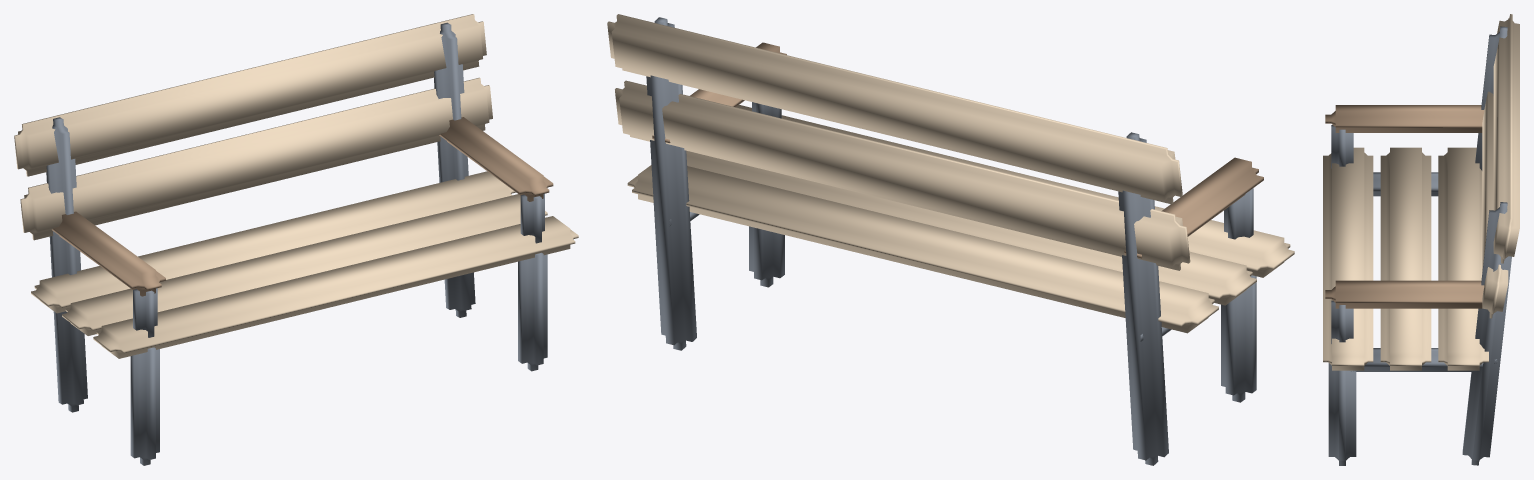
Rendered from CoastalBench.fbx.
3 views of the same model, side by side, from view 1: azimuth 30°, elevation 25°; view 2: azimuth 150°, elevation 25°; view 3: azimuth 270°, elevation 25° (orthographic). The views are drawn at different scales.
Visible parts, largest first — view 1: CoastalBench; view 2: CoastalBench; view 3: CoastalBench.
Boxes of the visible parts, bbox=[...] form: CoastalBench: bbox=[14, 14, 578, 465]; CoastalBench: bbox=[607, 14, 1294, 465]; CoastalBench: bbox=[1323, 14, 1519, 465].
Size of the model in its own units: 1.74 by 0.9988 by 0.6829.
